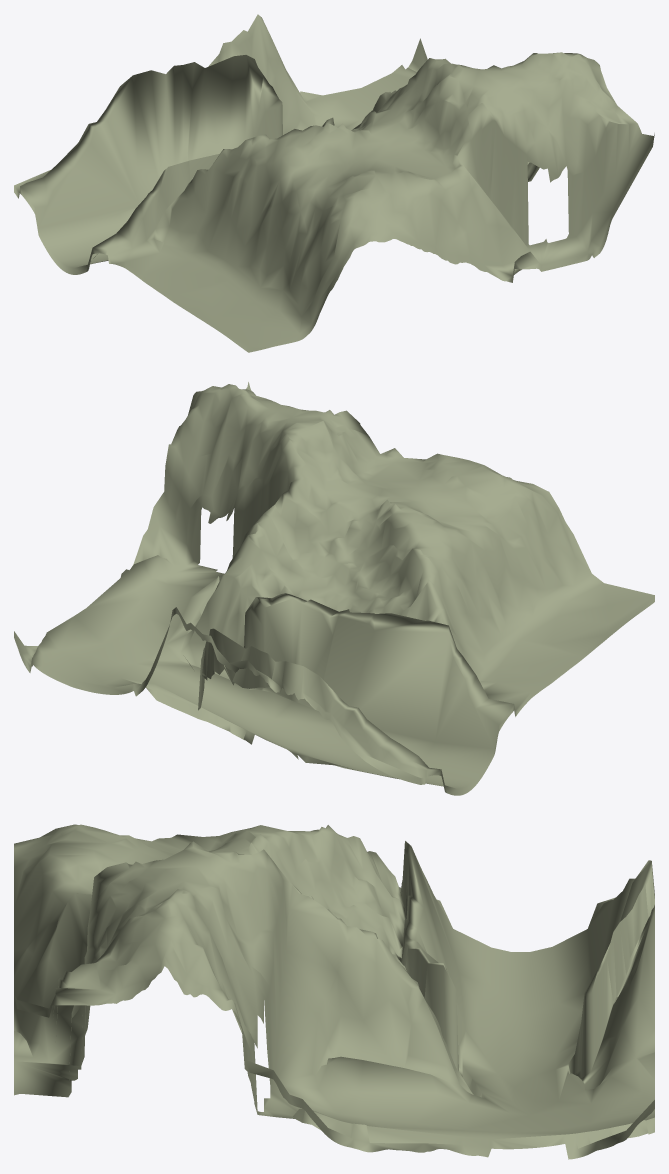
Rendered from terrain_r1_c2_lod1.glb.
3 renders of one model, top to bottom at view 1: azimuth 30°, elevation 25°; view 2: azimuth 150°, elevation 25°; view 3: azimuth 270°, elevation 25°, orthographic. The views are drawn at different scales.
Visible parts, largest first — view 1: terrain_r1_c2_lod1; view 2: terrain_r1_c2_lod1; view 3: terrain_r1_c2_lod1.
Boxes of the visible parts, x1,y1,x2,y2 form: terrain_r1_c2_lod1: (14,14,654,352); terrain_r1_c2_lod1: (14,382,654,795); terrain_r1_c2_lod1: (14,824,654,1159).
Size of the model in its own units: 50 by 26.29 by 50.
